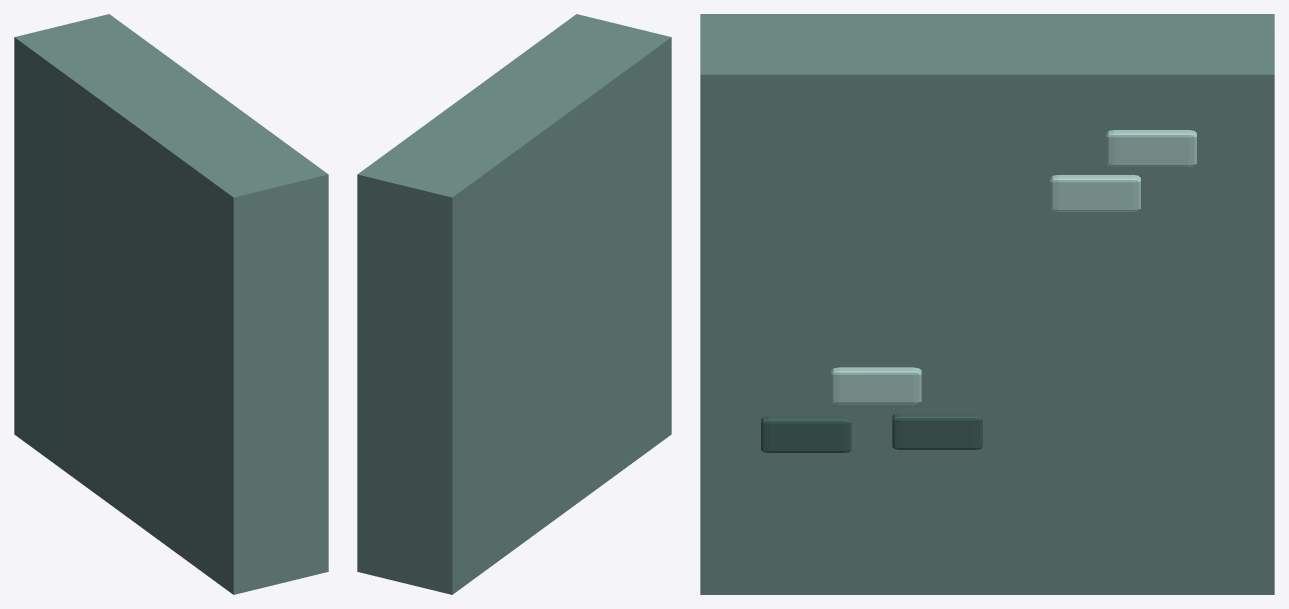
File: wall_t2.fbx
3 renders of one model, left to right at view 1: azimuth 30°, elevation 25°; view 2: azimuth 150°, elevation 25°; view 3: azimuth 270°, elevation 25°, orthographic. The views are drawn at different scales.
Visible parts, largest first — view 1: wall 2; view 2: wall 2; view 3: wall 2.
Part boxes in pixels (x1=…): wall 2: x1=14, y1=14, x2=328, y2=594; wall 2: x1=357, y1=14, x2=671, y2=594; wall 2: x1=700, y1=14, x2=1274, y2=594.
Size of the model in its own units: 107 by 400 by 400.
